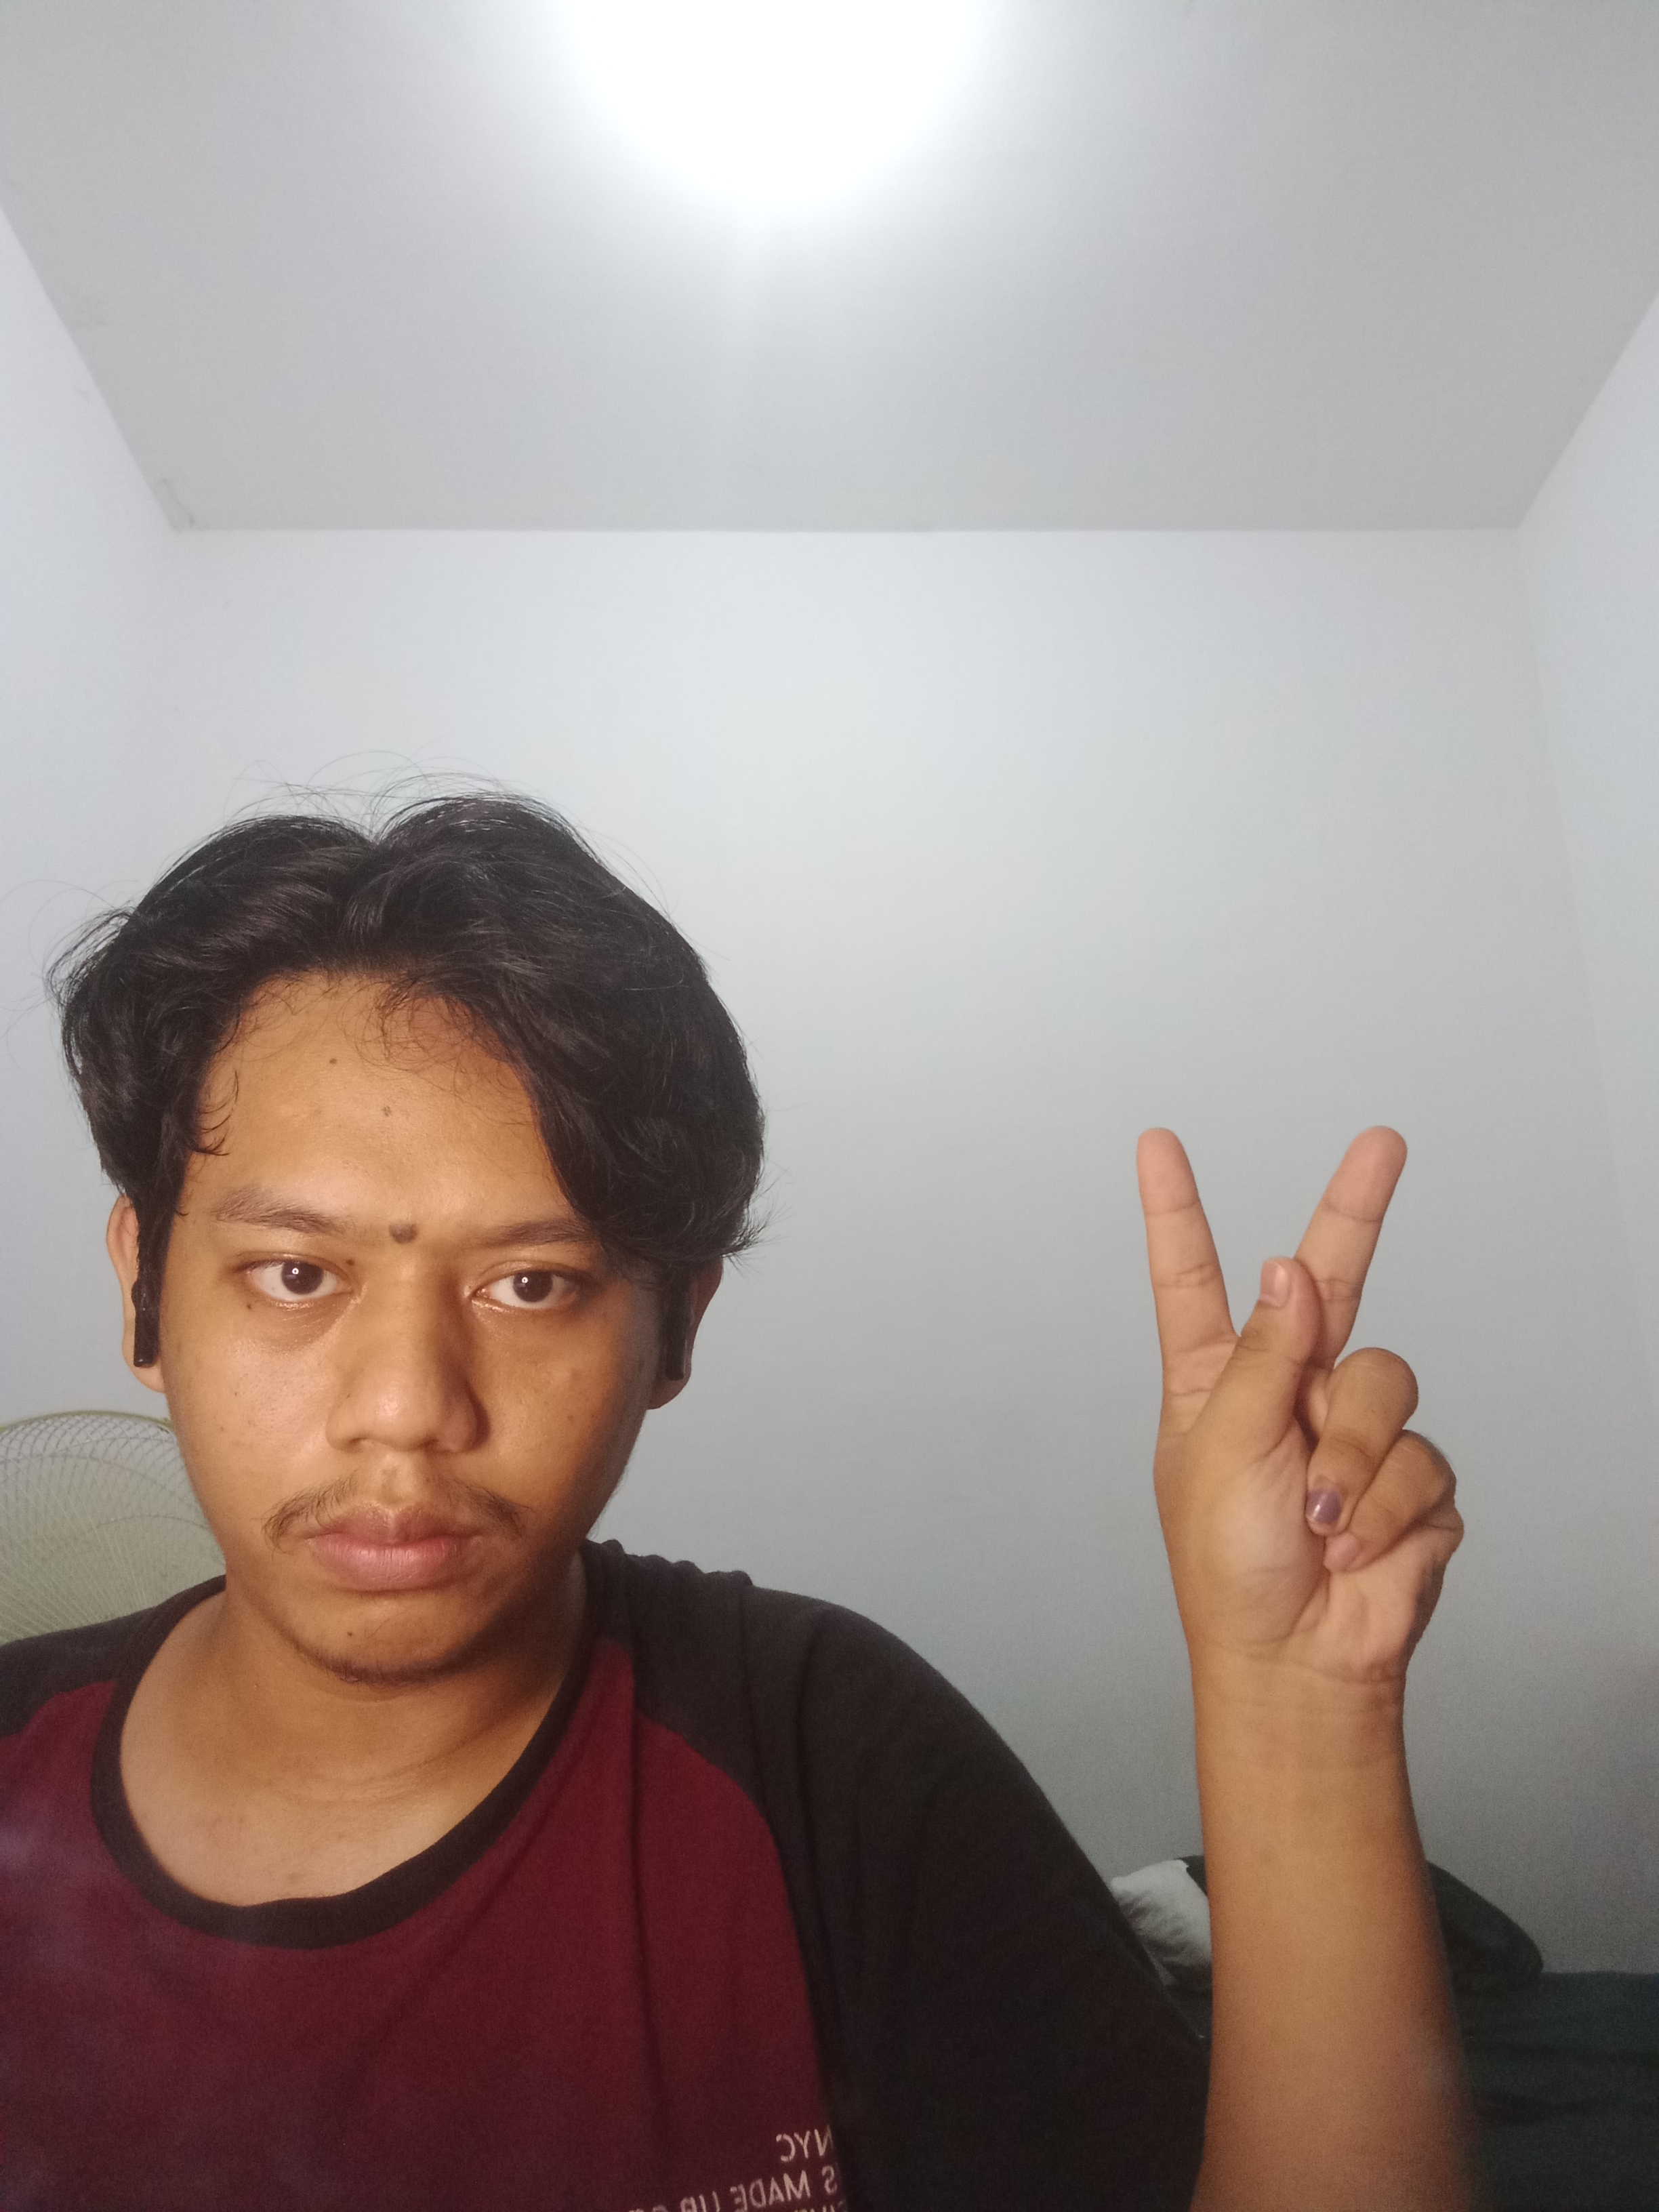K: (1101, 1089, 1492, 1723)
